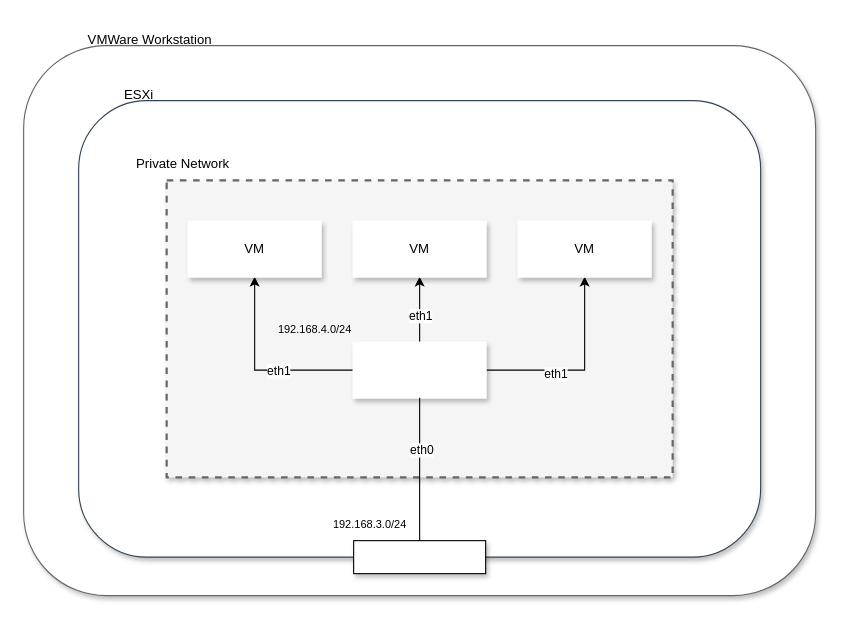
Some shapes in this 842 by 623 pixel diagram are drawn without their labels. The centre of each missing label's shape, as x and y in pixels:
"Vyos (DHCP,DNS,NAT)" belongs at [420,371].
"物理アダプター" belongs at [420,558].
